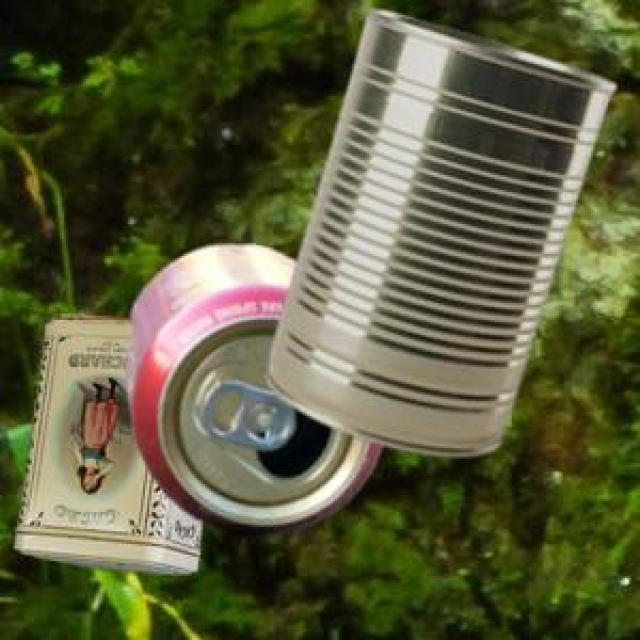logam: (263, 7, 613, 453), (125, 242, 379, 532), (12, 313, 199, 571)
